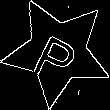P_NE: (30, 21, 85, 83)
